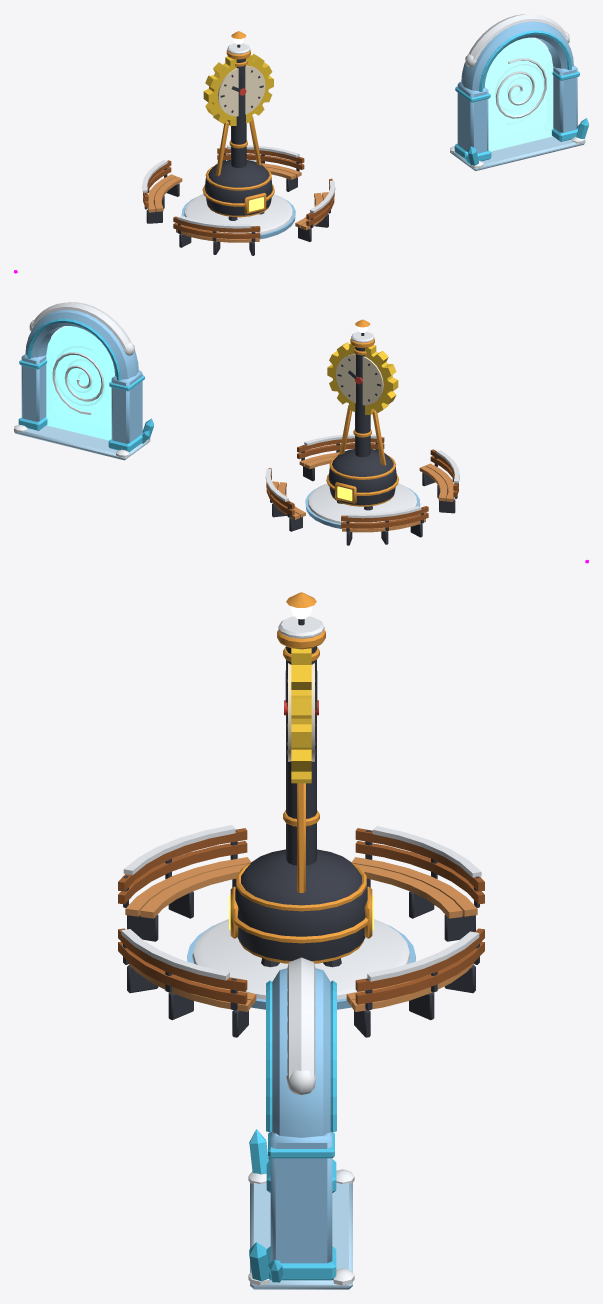
The model's file is Pack_Landmarks.fbx.
3 renders of one model, top to bottom at view 1: azimuth 30°, elevation 25°; view 2: azimuth 150°, elevation 25°; view 3: azimuth 270°, elevation 25°, orthographic. The views are drawn at different scales.
Parts seen in each view (by area): view 1: ReturnPortal__Swirl__57D8FFNET15, ReturnPortal__Ice__9FD8FFSP, PlazaLandmark__Stove__3B3F4ASP, PlazaLandmark__Snow__F6FAFFSP, PlazaLandmark__Wood2__A9622FSP, PlazaLandmark__Orange__F2A23DSP, ReturnPortal__Ice2__57D8FFSP, PlazaLandmark__Gear__FFD23ASP, PlazaLandmark__Wood__E09A5ASP, PlazaLandmark__Steel__3B3F4ASP, PlazaLandmark__Face__FFF3D6SP, ReturnPortal__Base__BFE6FFSP (+2 smaller); view 2: ReturnPortal__Swirl__57D8FFNET15, ReturnPortal__Ice__9FD8FFSP, PlazaLandmark__Stove__3B3F4ASP, PlazaLandmark__Snow__F6FAFFSP, PlazaLandmark__Wood2__A9622FSP, PlazaLandmark__Orange__F2A23DSP, PlazaLandmark__Gear__FFD23ASP, ReturnPortal__Ice2__57D8FFSP, PlazaLandmark__Wood__E09A5ASP, PlazaLandmark__Steel__3B3F4ASP, PlazaLandmark__Face__FFF3D6SP, ReturnPortal__Base__BFE6FFSP (+2 smaller); view 3: ReturnPortal__Ice__9FD8FFSP, PlazaLandmark__Stove__3B3F4ASP, PlazaLandmark__Snow__F6FAFFSP, PlazaLandmark__Wood2__A9622FSP, PlazaLandmark__Wood__E09A5ASP, PlazaLandmark__Steel__3B3F4ASP, ReturnPortal__Ice2__57D8FFSP, PlazaLandmark__Orange__F2A23DSP, ReturnPortal__Snow__F6FAFFSP, ReturnPortal__Base__BFE6FFSP, PlazaLandmark__Gear__FFD23ASP.
Part boxes in pixels (x1,y1,x2,y2): ReturnPortal__Swirl__57D8FFNET15: (485, 37, 553, 151); ReturnPortal__Ice__9FD8FFSP: (457, 21, 577, 153); PlazaLandmark__Stove__3B3F4ASP: (204, 58, 272, 215); PlazaLandmark__Snow__F6FAFFSP: (142, 43, 335, 234); PlazaLandmark__Wood2__A9622FSP: (143, 147, 334, 238); PlazaLandmark__Orange__F2A23DSP: (202, 31, 274, 217); ReturnPortal__Ice2__57D8FFSP: (454, 30, 588, 165); PlazaLandmark__Gear__FFD23ASP: (203, 54, 273, 125); PlazaLandmark__Wood__E09A5ASP: (147, 163, 328, 242); PlazaLandmark__Steel__3B3F4ASP: (144, 44, 330, 255); PlazaLandmark__Face__FFF3D6SP: (218, 65, 265, 116); ReturnPortal__Base__BFE6FFSP: (450, 136, 585, 170); ReturnPortal__Swirl__57D8FFNET15: (46, 326, 114, 440); ReturnPortal__Ice__9FD8FFSP: (21, 309, 142, 443); PlazaLandmark__Stove__3B3F4ASP: (328, 347, 396, 505); PlazaLandmark__Snow__F6FAFFSP: (265, 331, 459, 523); PlazaLandmark__Wood2__A9622FSP: (266, 437, 458, 528); PlazaLandmark__Orange__F2A23DSP: (326, 319, 398, 506); PlazaLandmark__Gear__FFD23ASP: (327, 342, 398, 414); ReturnPortal__Ice2__57D8FFSP: (18, 318, 153, 451); PlazaLandmark__Wood__E09A5ASP: (272, 452, 454, 532); PlazaLandmark__Steel__3B3F4ASP: (270, 333, 457, 545); PlazaLandmark__Face__FFF3D6SP: (336, 354, 383, 405); ReturnPortal__Base__BFE6FFSP: (14, 425, 150, 460); ReturnPortal__Ice__9FD8FFSP: (270, 968, 332, 1263); PlazaLandmark__Stove__3B3F4ASP: (235, 646, 367, 960); PlazaLandmark__Snow__F6FAFFSP: (121, 616, 481, 999); PlazaLandmark__Wood2__A9622FSP: (118, 828, 484, 1004); PlazaLandmark__Wood__E09A5ASP: (125, 857, 477, 1011); PlazaLandmark__Steel__3B3F4ASP: (123, 619, 479, 1037); ReturnPortal__Ice2__57D8FFSP: (249, 980, 336, 1282); PlazaLandmark__Orange__F2A23DSP: (230, 592, 372, 963); ReturnPortal__Snow__F6FAFFSP: (248, 957, 354, 1285); ReturnPortal__Base__BFE6FFSP: (250, 1183, 352, 1289); PlazaLandmark__Gear__FFD23ASP: (291, 648, 311, 783).
Bounding box in the file's own units: 50.53 × 16 × 14.25.
